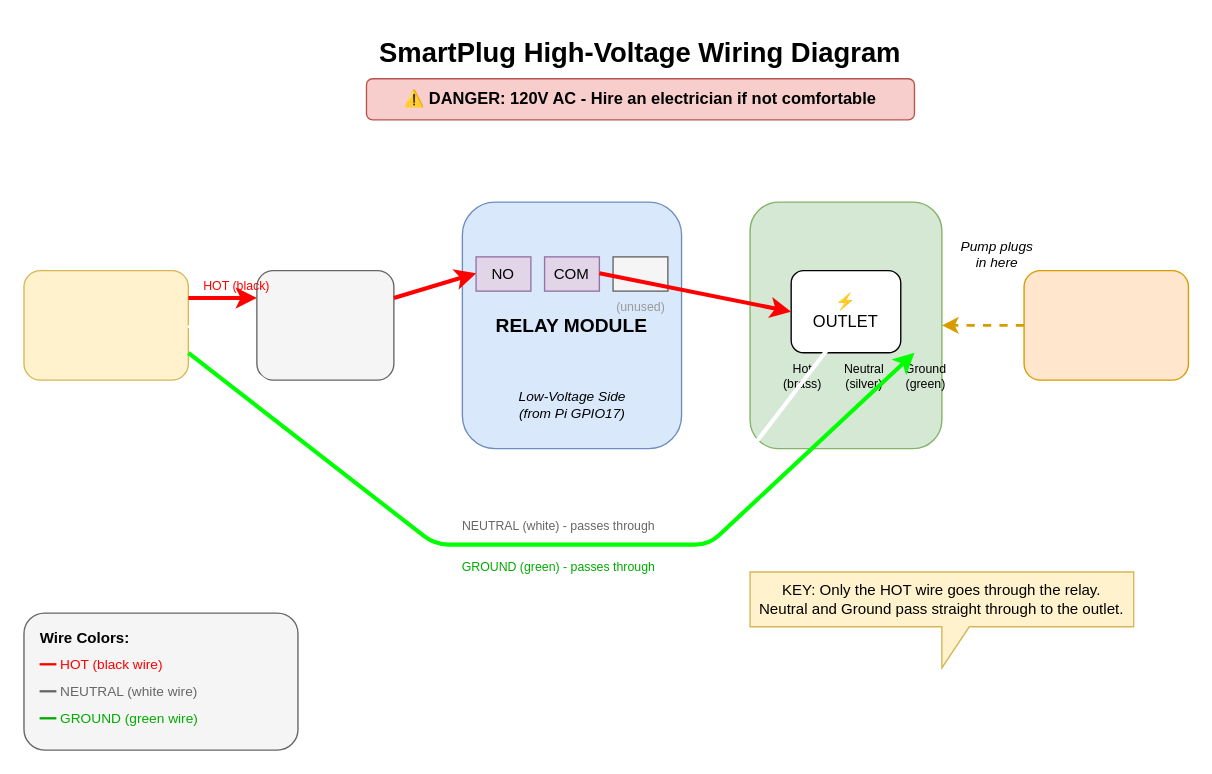
Image size: 1212x774. Some labels were removed from this diagram. Here are the shapes that lost their labels. From the top down, the centre of each, then its label:
At point 640,273: "NC".
At point 105,324: "Wall Outlet (120V AC)".
At point 325,324: "Power Cord (14 AWG, 3-prong)".
At point 1105,324: "Taco 006-B4 Pump (3-prong plug)".
